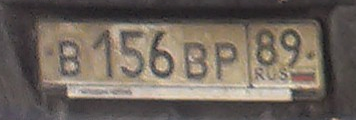character: (146, 23, 176, 79), (118, 25, 146, 79), (89, 27, 115, 78), (182, 39, 211, 82), (278, 26, 306, 68), (56, 38, 84, 77), (213, 40, 239, 82), (254, 26, 279, 67)
